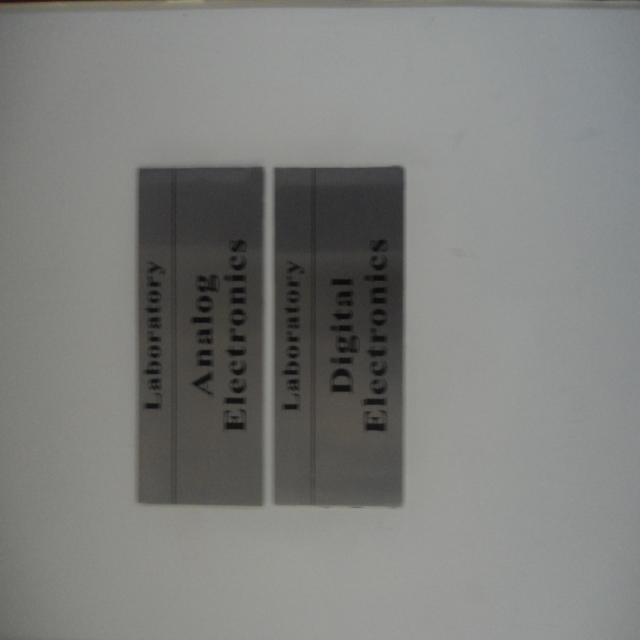sign: (131, 157, 266, 515), (274, 162, 406, 509)
